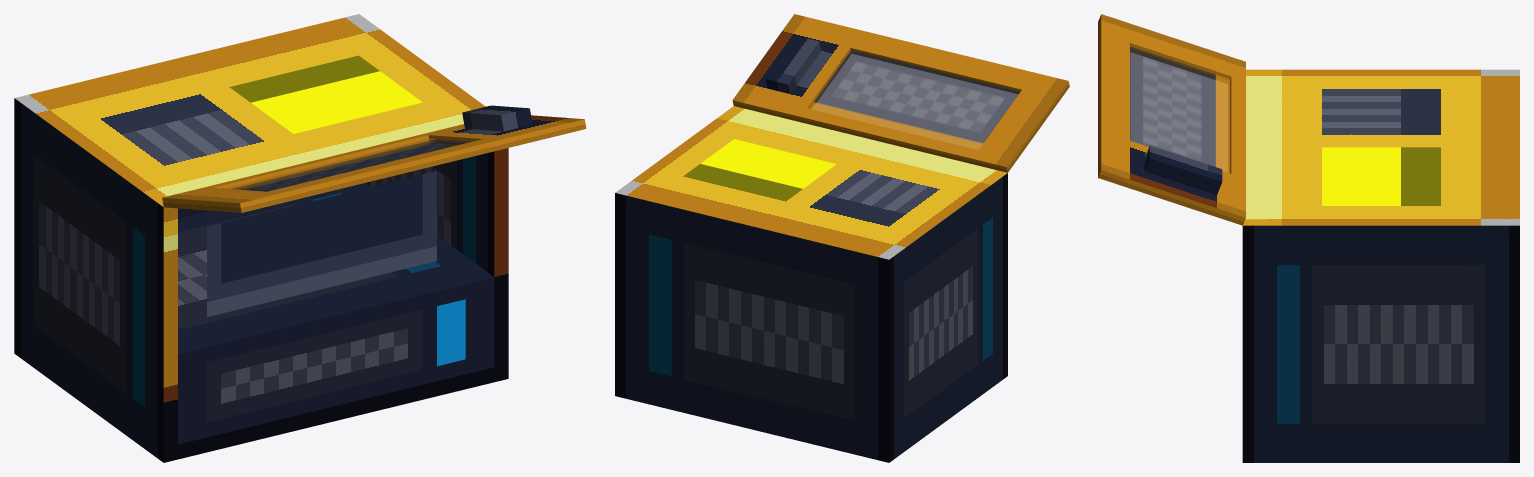
The model's file is microwave_engineering_open.glb.
3 views of the same model, side by side, from view 1: azimuth 30°, elevation 25°; view 2: azimuth 150°, elevation 25°; view 3: azimuth 270°, elevation 25° (orthographic). The views are drawn at different scales.
Visible parts, largest first — view 1: Engineering_Continuous_Cabinet, Emission_Overlay, Engineering_Door_Frame, Engineering_Door_Glass, Battery_Level_Overlay, Engineering_Door_Handle; view 2: Engineering_Continuous_Cabinet, Engineering_Door_Frame, Engineering_Door_Glass, Emission_Overlay, Engineering_Door_Handle; view 3: Engineering_Continuous_Cabinet, Engineering_Door_Frame, Engineering_Door_Glass, Emission_Overlay, Engineering_Door_Handle.
Part boxes in pixels (x1,y1,x2,y2): Engineering_Continuous_Cabinet: [14, 14, 508, 462]; Emission_Overlay: [207, 55, 436, 316]; Engineering_Door_Frame: [162, 115, 586, 212]; Engineering_Door_Glass: [225, 138, 470, 191]; Battery_Level_Overlay: [437, 299, 465, 366]; Engineering_Door_Handle: [462, 105, 532, 131]; Engineering_Continuous_Cabinet: [615, 106, 1007, 462]; Engineering_Door_Frame: [732, 14, 1069, 172]; Engineering_Door_Glass: [809, 50, 1020, 149]; Emission_Overlay: [683, 139, 836, 201]; Engineering_Door_Handle: [765, 36, 821, 93]; Engineering_Continuous_Cabinet: [1242, 69, 1519, 462]; Engineering_Door_Frame: [1098, 14, 1245, 225]; Engineering_Door_Glass: [1130, 46, 1230, 173]; Emission_Overlay: [1322, 147, 1440, 205]; Engineering_Door_Handle: [1144, 145, 1222, 195].
Bounding box in the file's own units: 0.675 × 0.5902 × 0.7705.
Materials: 3 (3 with a texture image).
